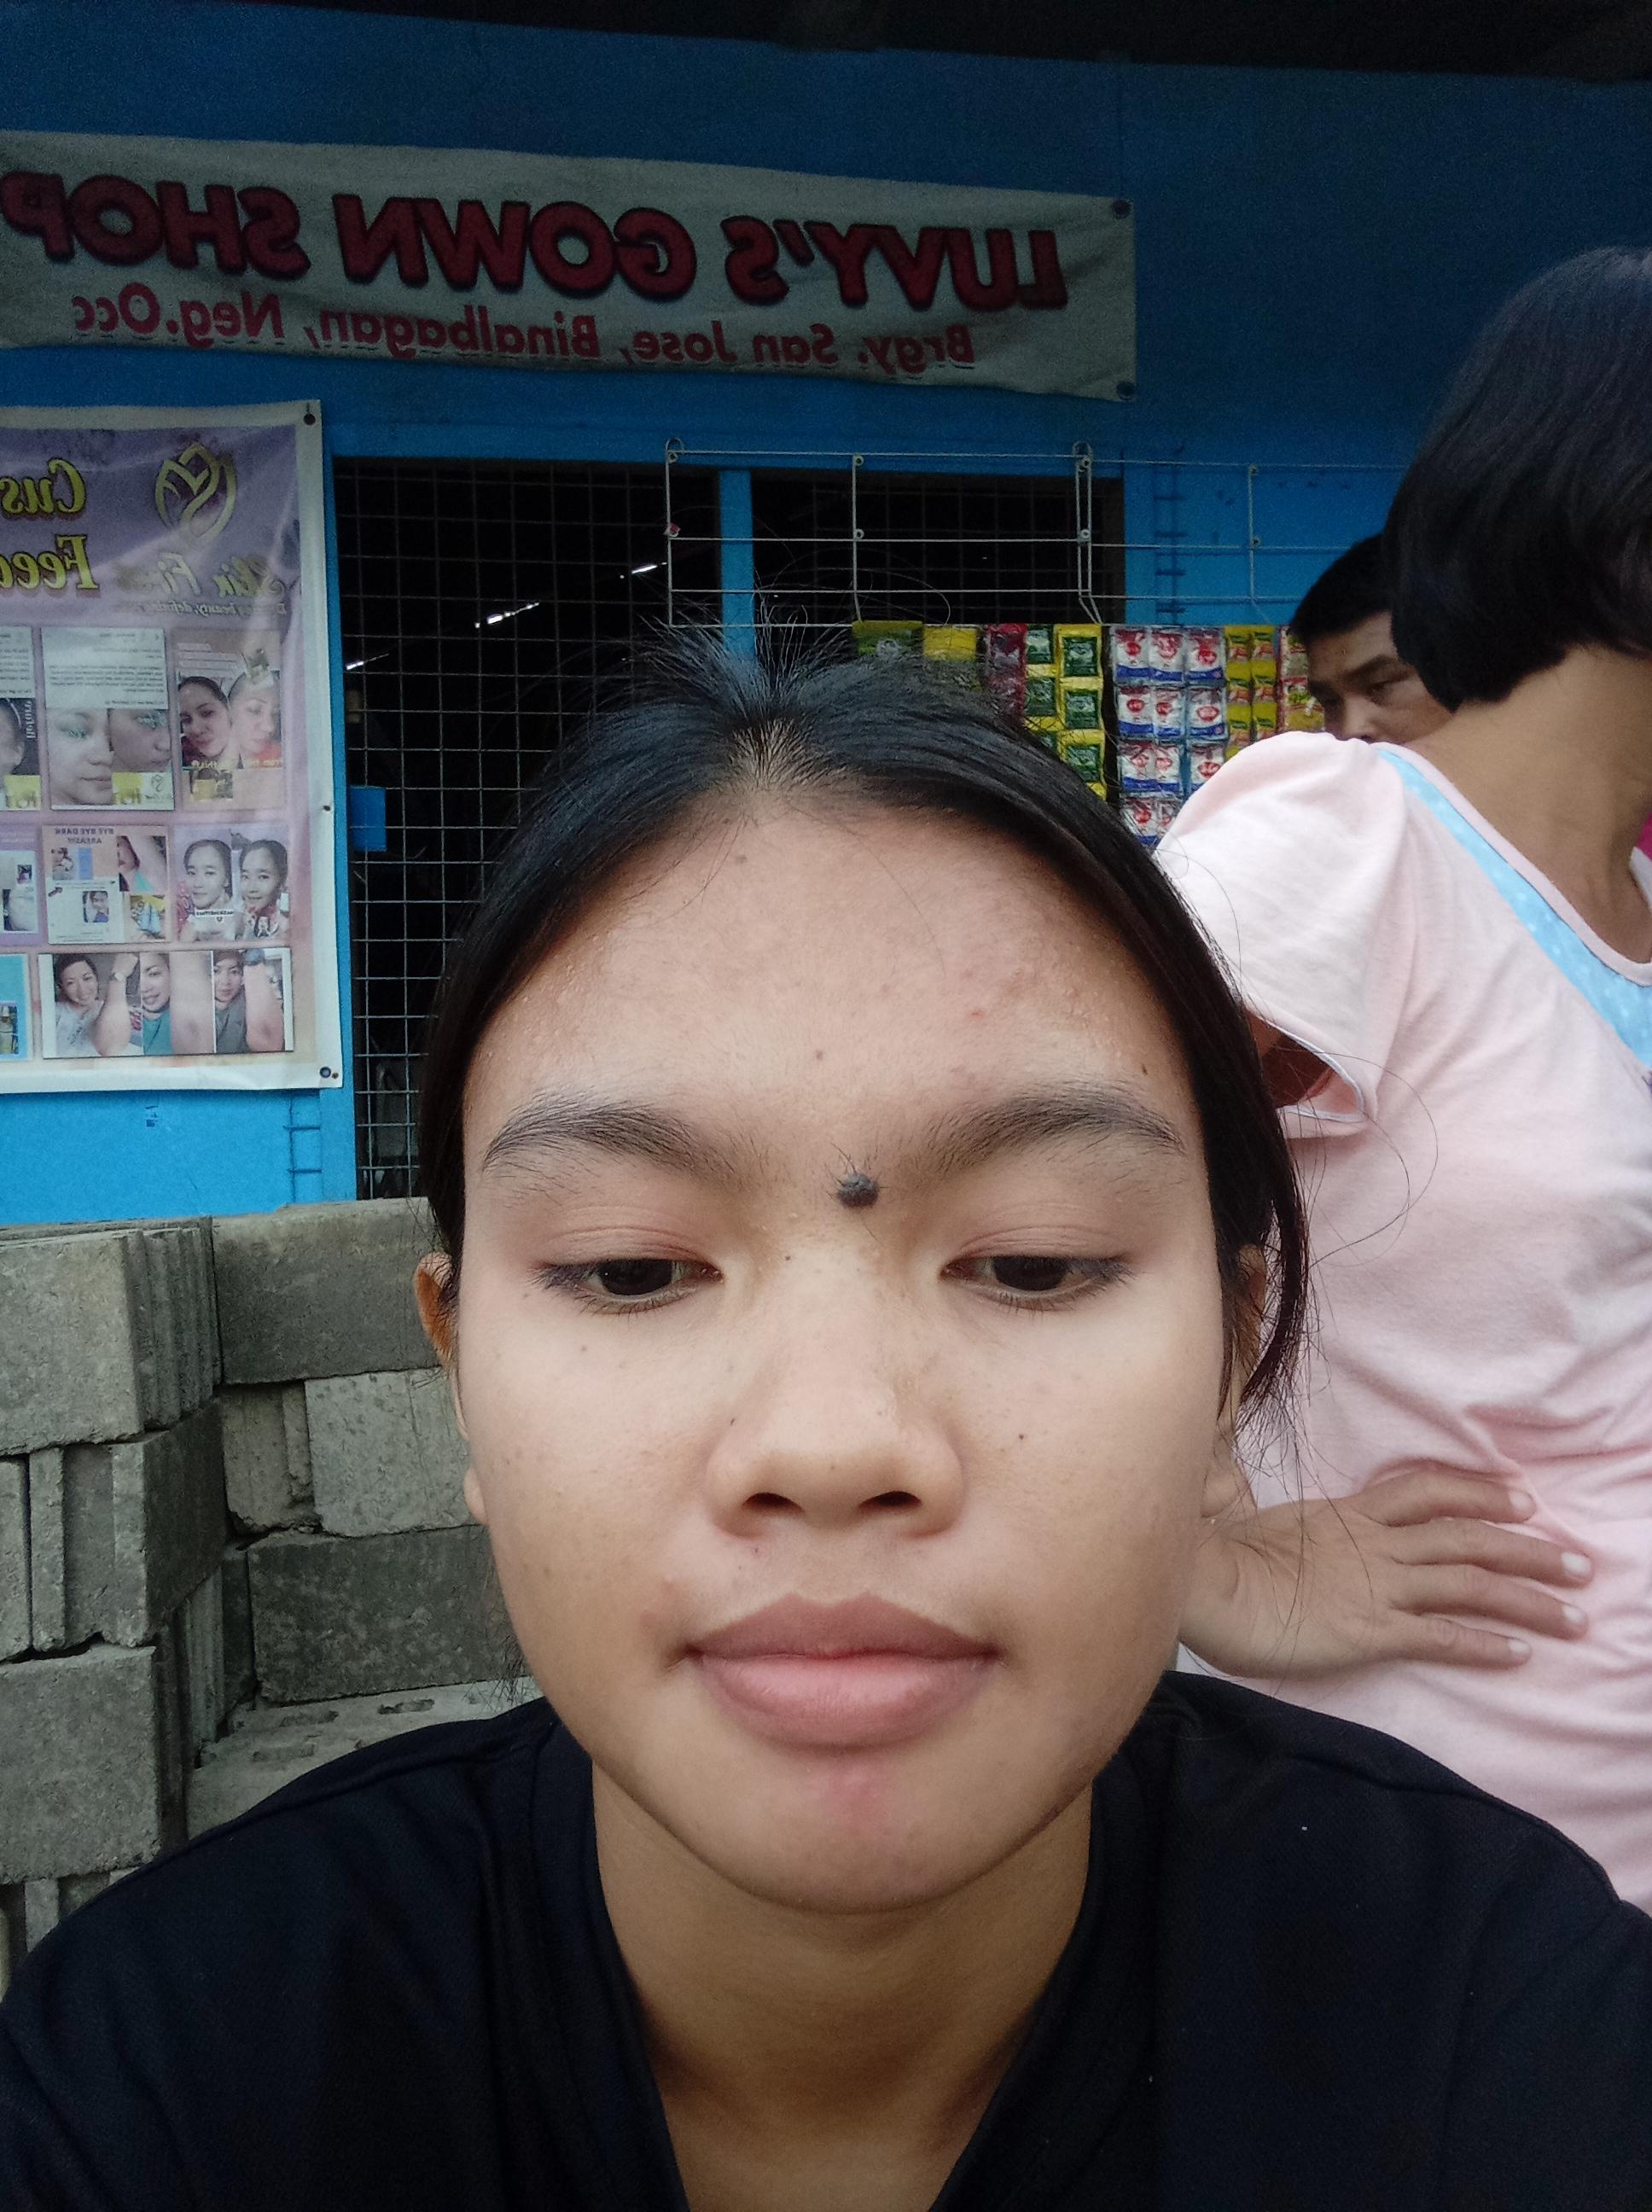Acne: (989, 906, 1121, 1034), (508, 942, 616, 1053), (873, 1362, 928, 1442), (828, 1759, 885, 1820), (635, 1567, 678, 1636), (857, 1239, 890, 1312), (944, 1058, 989, 1102), (958, 1005, 989, 1027), (871, 975, 895, 1003), (809, 1043, 831, 1070), (746, 1539, 769, 1558)
Englarged-Pores: (961, 1404, 1048, 1516), (590, 1419, 710, 1494)
